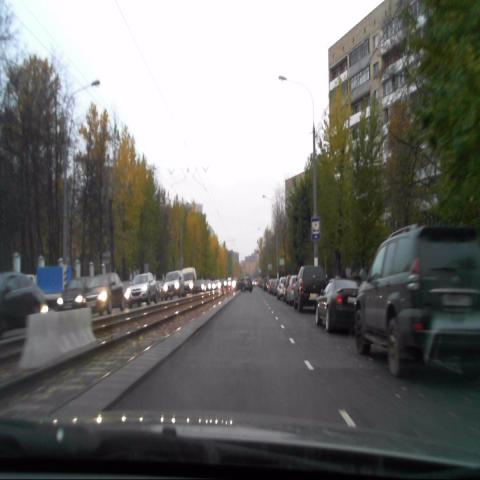7_2: (311, 216, 321, 240)
